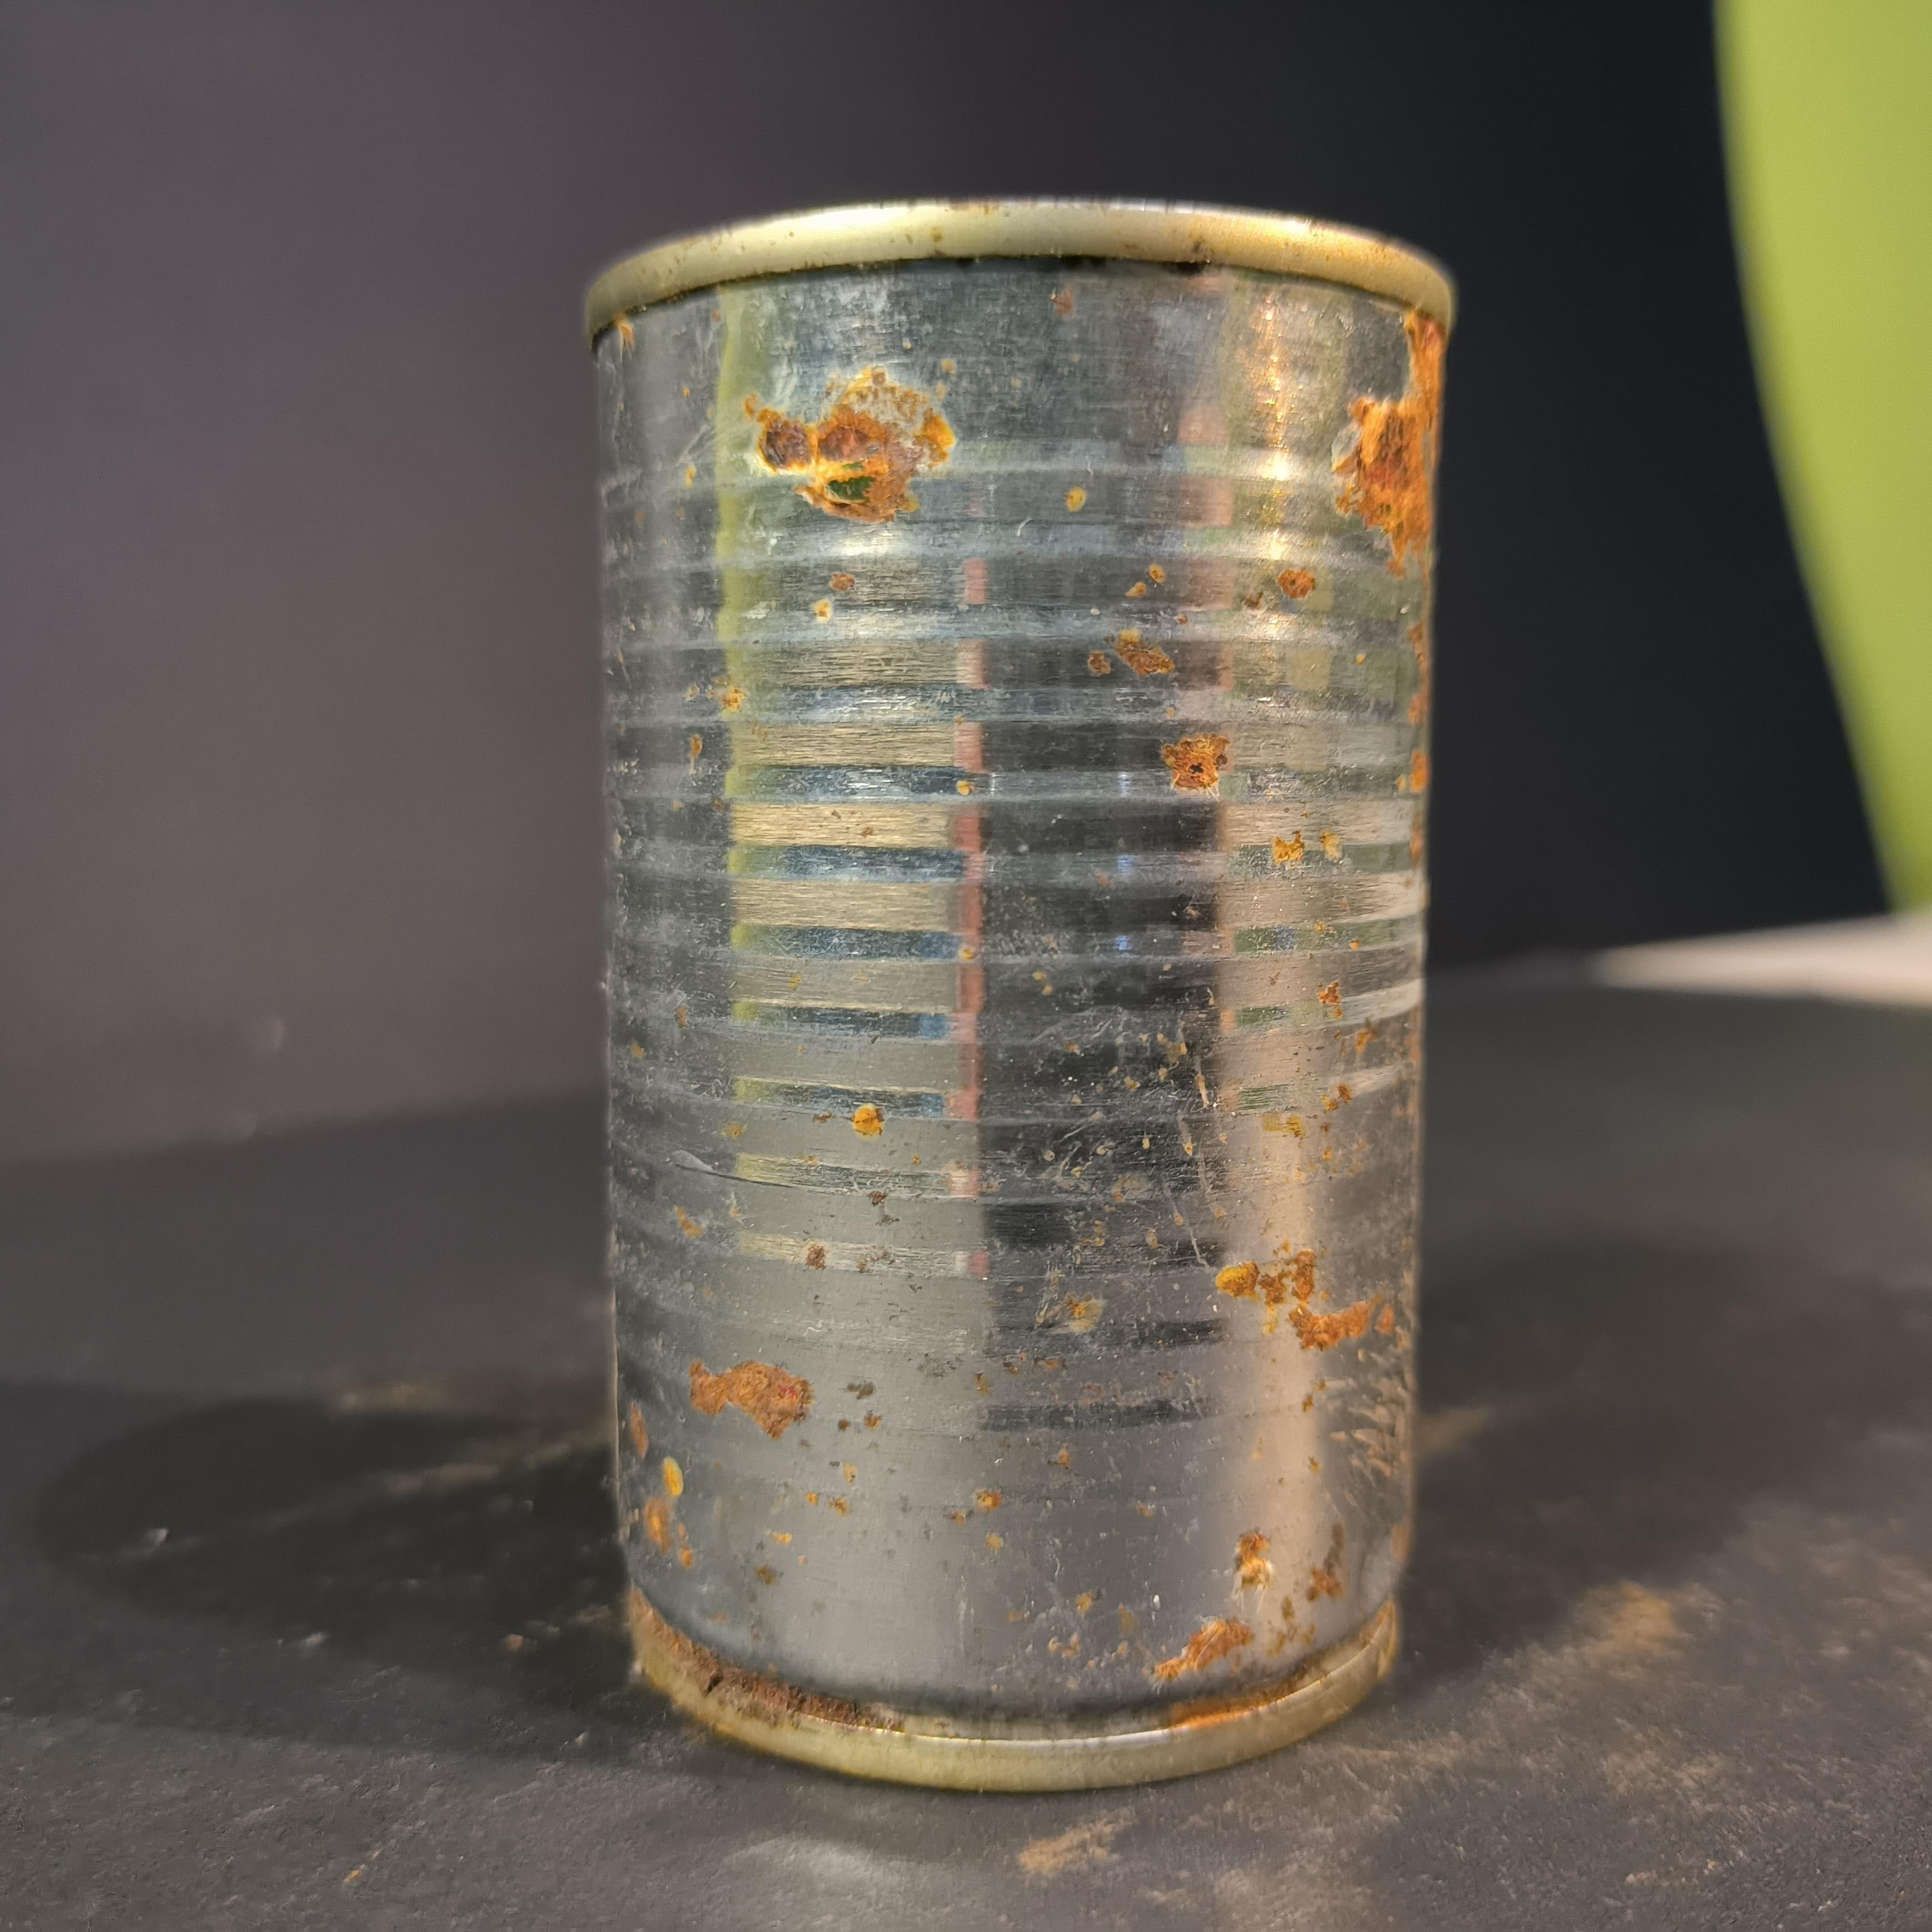Rusted: (515, 165, 1477, 1799)
